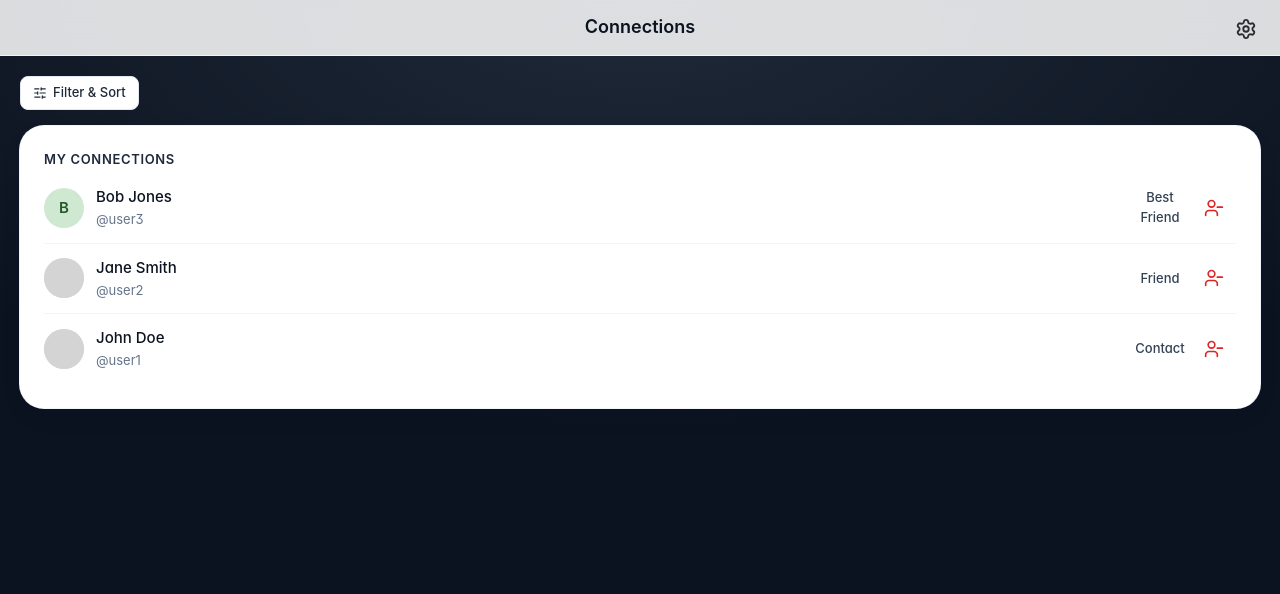
it: ConnectionsView › filters connections by first name
Check: the text "John Doe" is shown, box [96,328,164,347]
Click the button "Filter & Sort" at (79, 93), box [20,76,139,110]
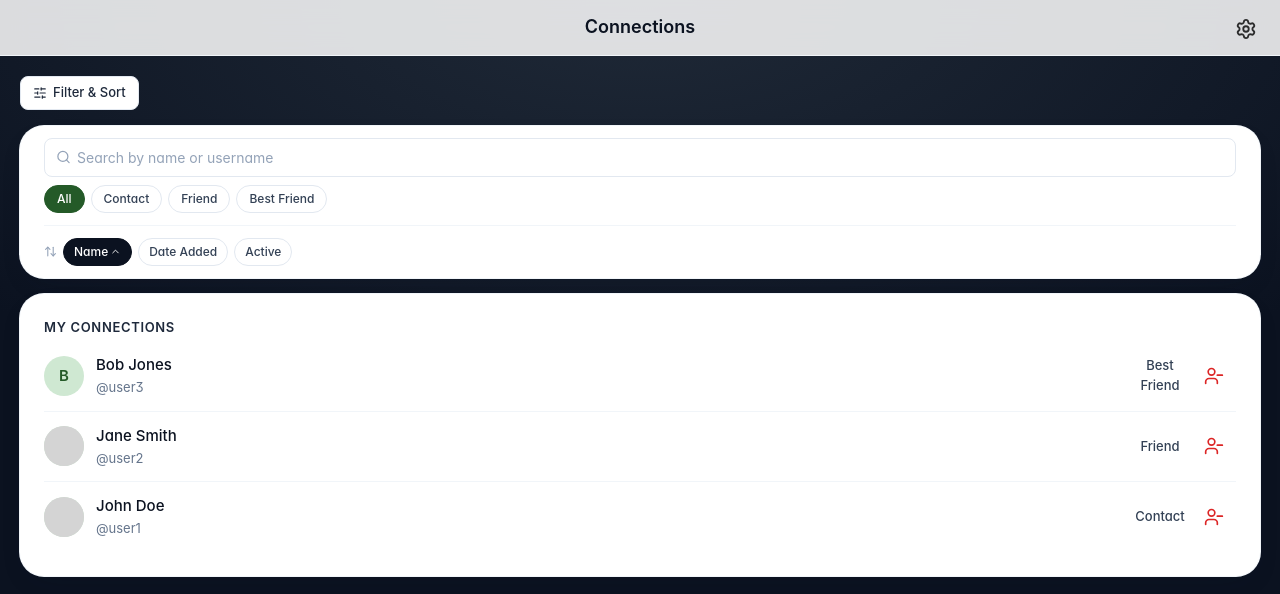
Type "john" into the search field with placeholder "Search by name or username" at (640, 157), box [44,138,1236,176]
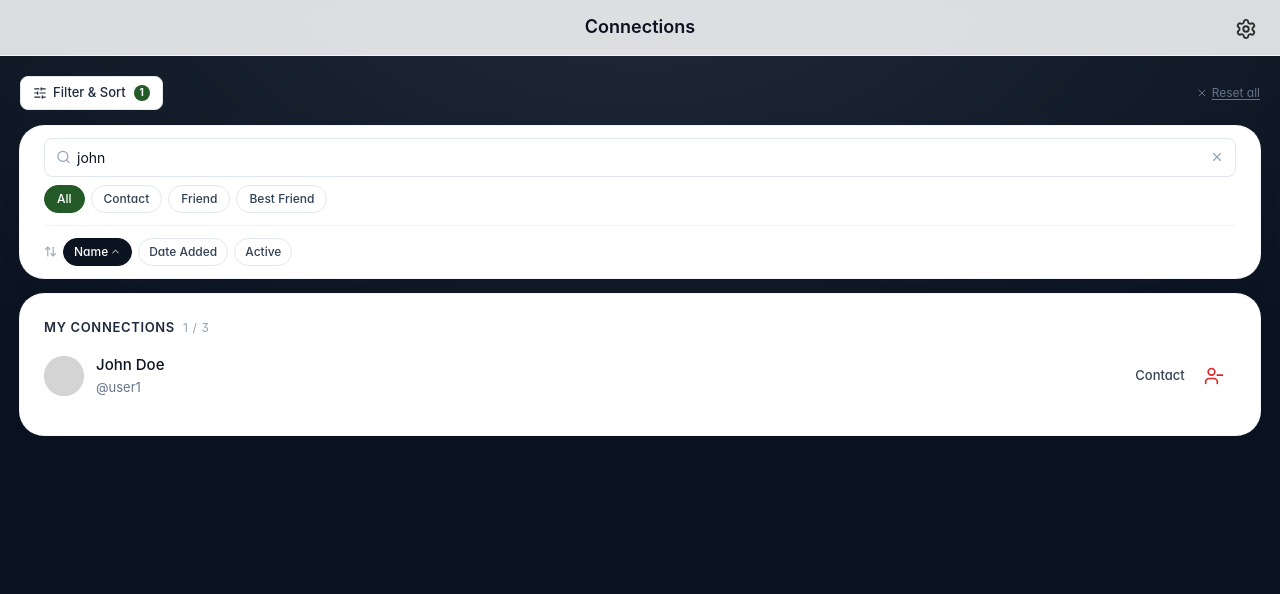
Check: the text "John Doe" is shown, box [96,355,164,374]
Check: the link "Jane Smith" is gone
Check: the link "Bob Jones" is gone
